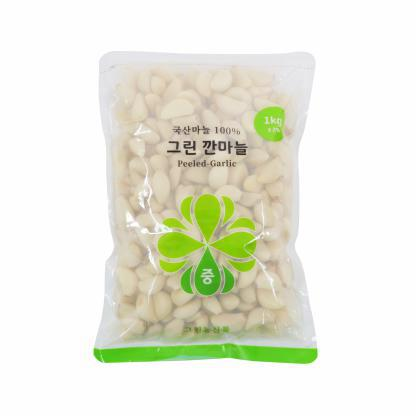garlic: (112, 74, 302, 334)
